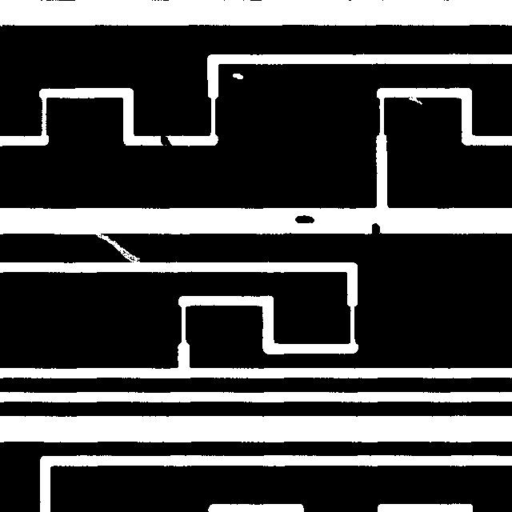copper: (287, 207, 322, 230)
mousebite: (401, 90, 430, 112)
open: (87, 225, 147, 271)
pin-hole: (225, 66, 250, 86)
short: (153, 127, 179, 155)
spur: (364, 215, 387, 245)
